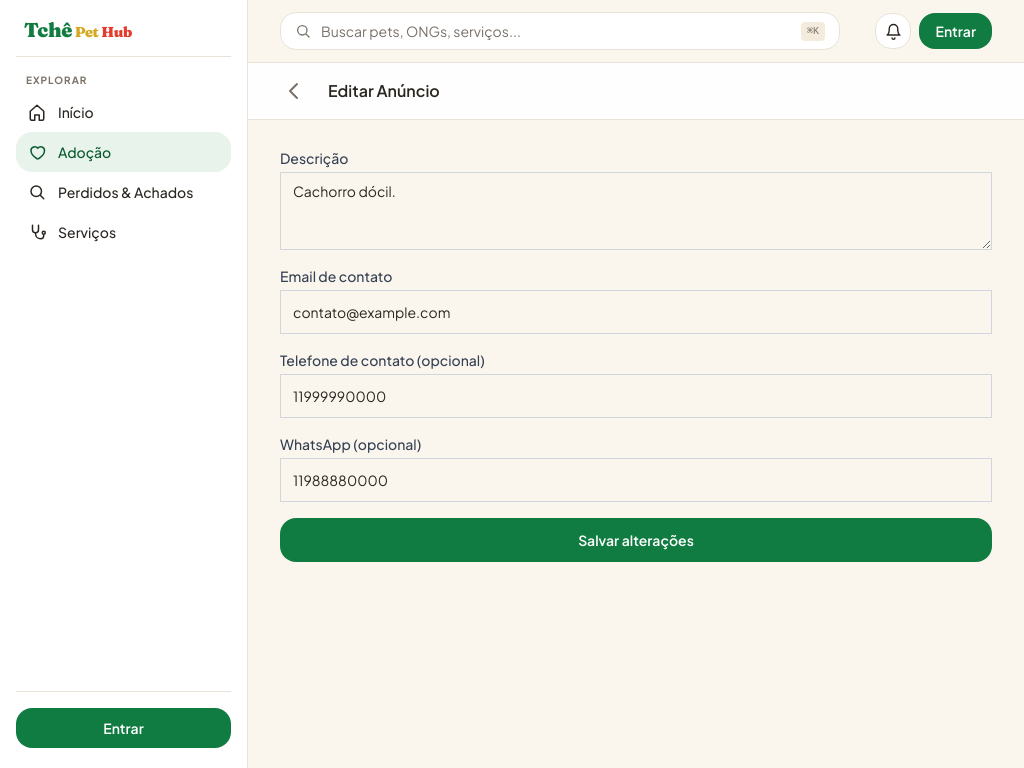
Test: AdoptionEditPage › shows API error when update fails
Click the button "Salvar alterações" at [636, 540], box [280,518,992,562]
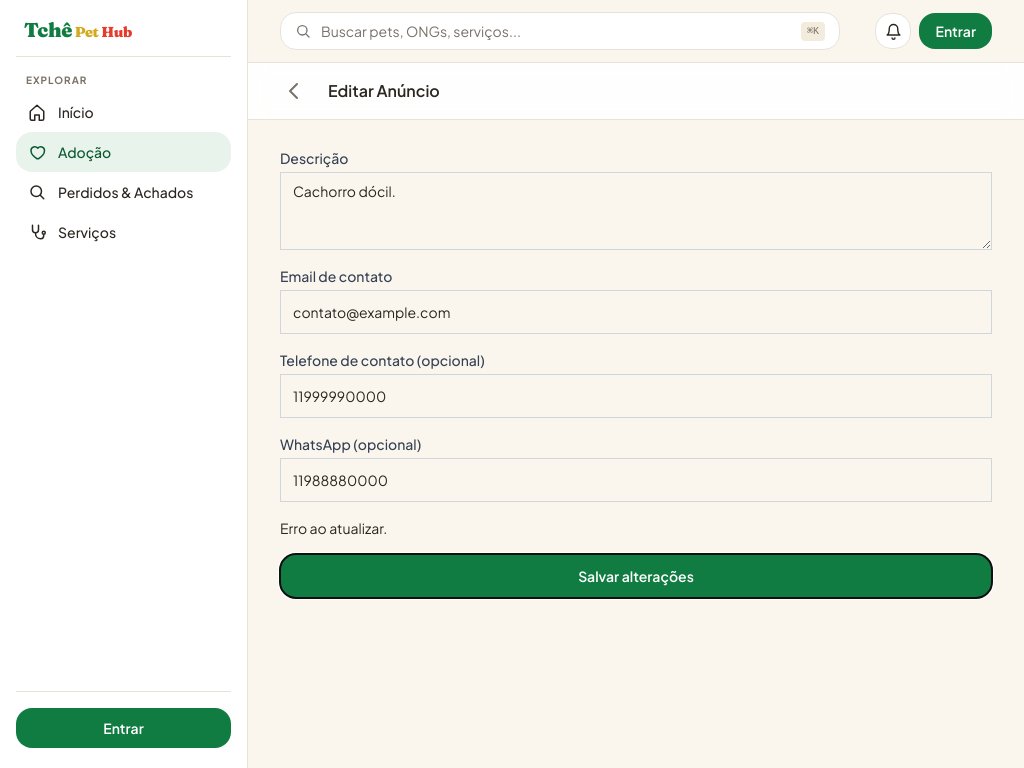
Check: the text "Erro ao atualizar." is shown, box [280,519,387,537]
